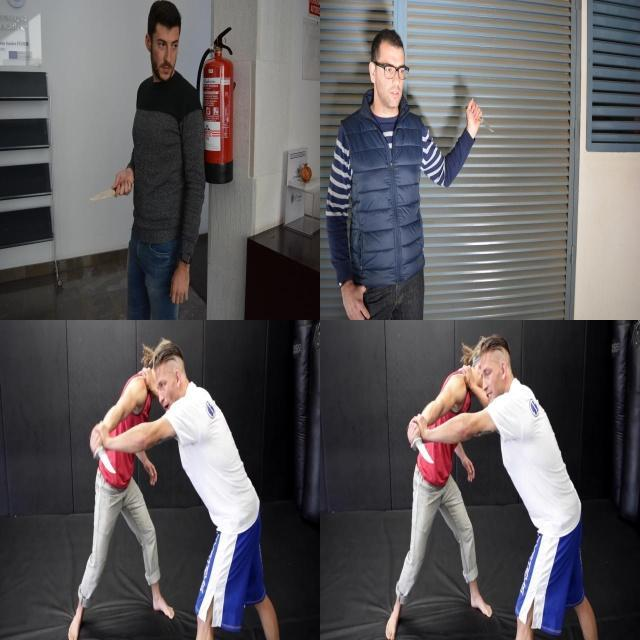-: (86, 430, 117, 477), (404, 422, 435, 468), (463, 103, 494, 133), (87, 181, 121, 202)
